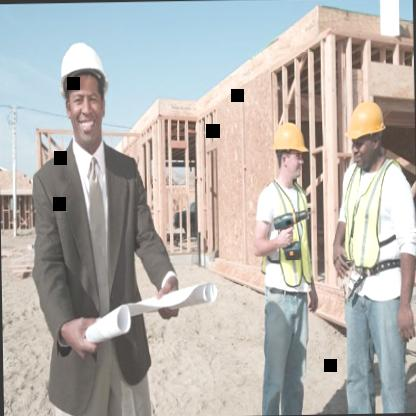helmet: (55, 29, 118, 158), (341, 92, 388, 172), (266, 113, 310, 194)
